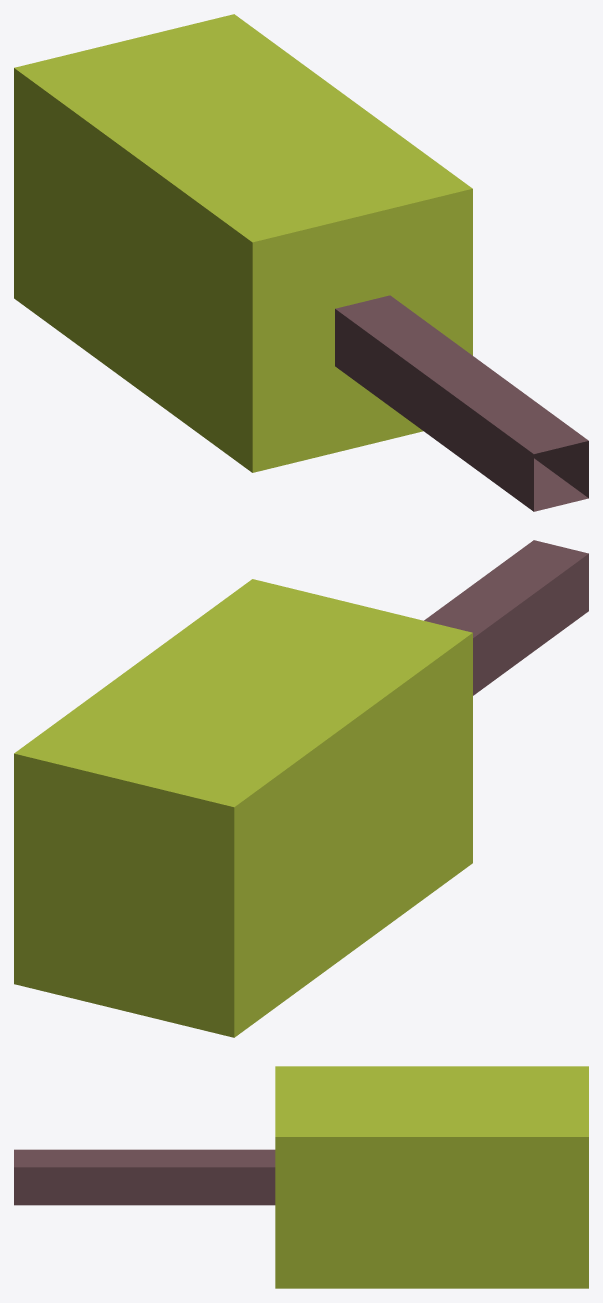
File: Tree1.fbx
The picture shows the model from 3 angles, top to bottom: view 1: azimuth 30°, elevation 25°; view 2: azimuth 150°, elevation 25°; view 3: azimuth 270°, elevation 25°; orthographic projection. The views are drawn at different scales.
Visible parts, largest first — view 1: Cube.005; view 2: Cube.005; view 3: Cube.005.
Boxes of the visible parts, bbox=[...] form: Cube.005: bbox=[14, 14, 588, 511]; Cube.005: bbox=[14, 540, 588, 1037]; Cube.005: bbox=[14, 1066, 588, 1288].
Bounding box in the file's own units: 1.6 × 5.5 × 1.6.
